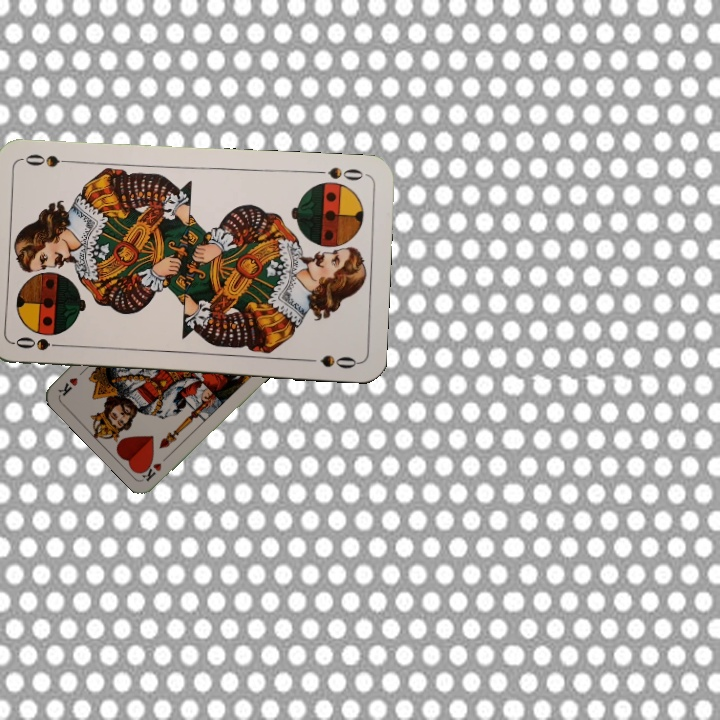HK: (138, 449, 173, 484)
SO: (11, 333, 70, 353), (310, 163, 369, 183)
